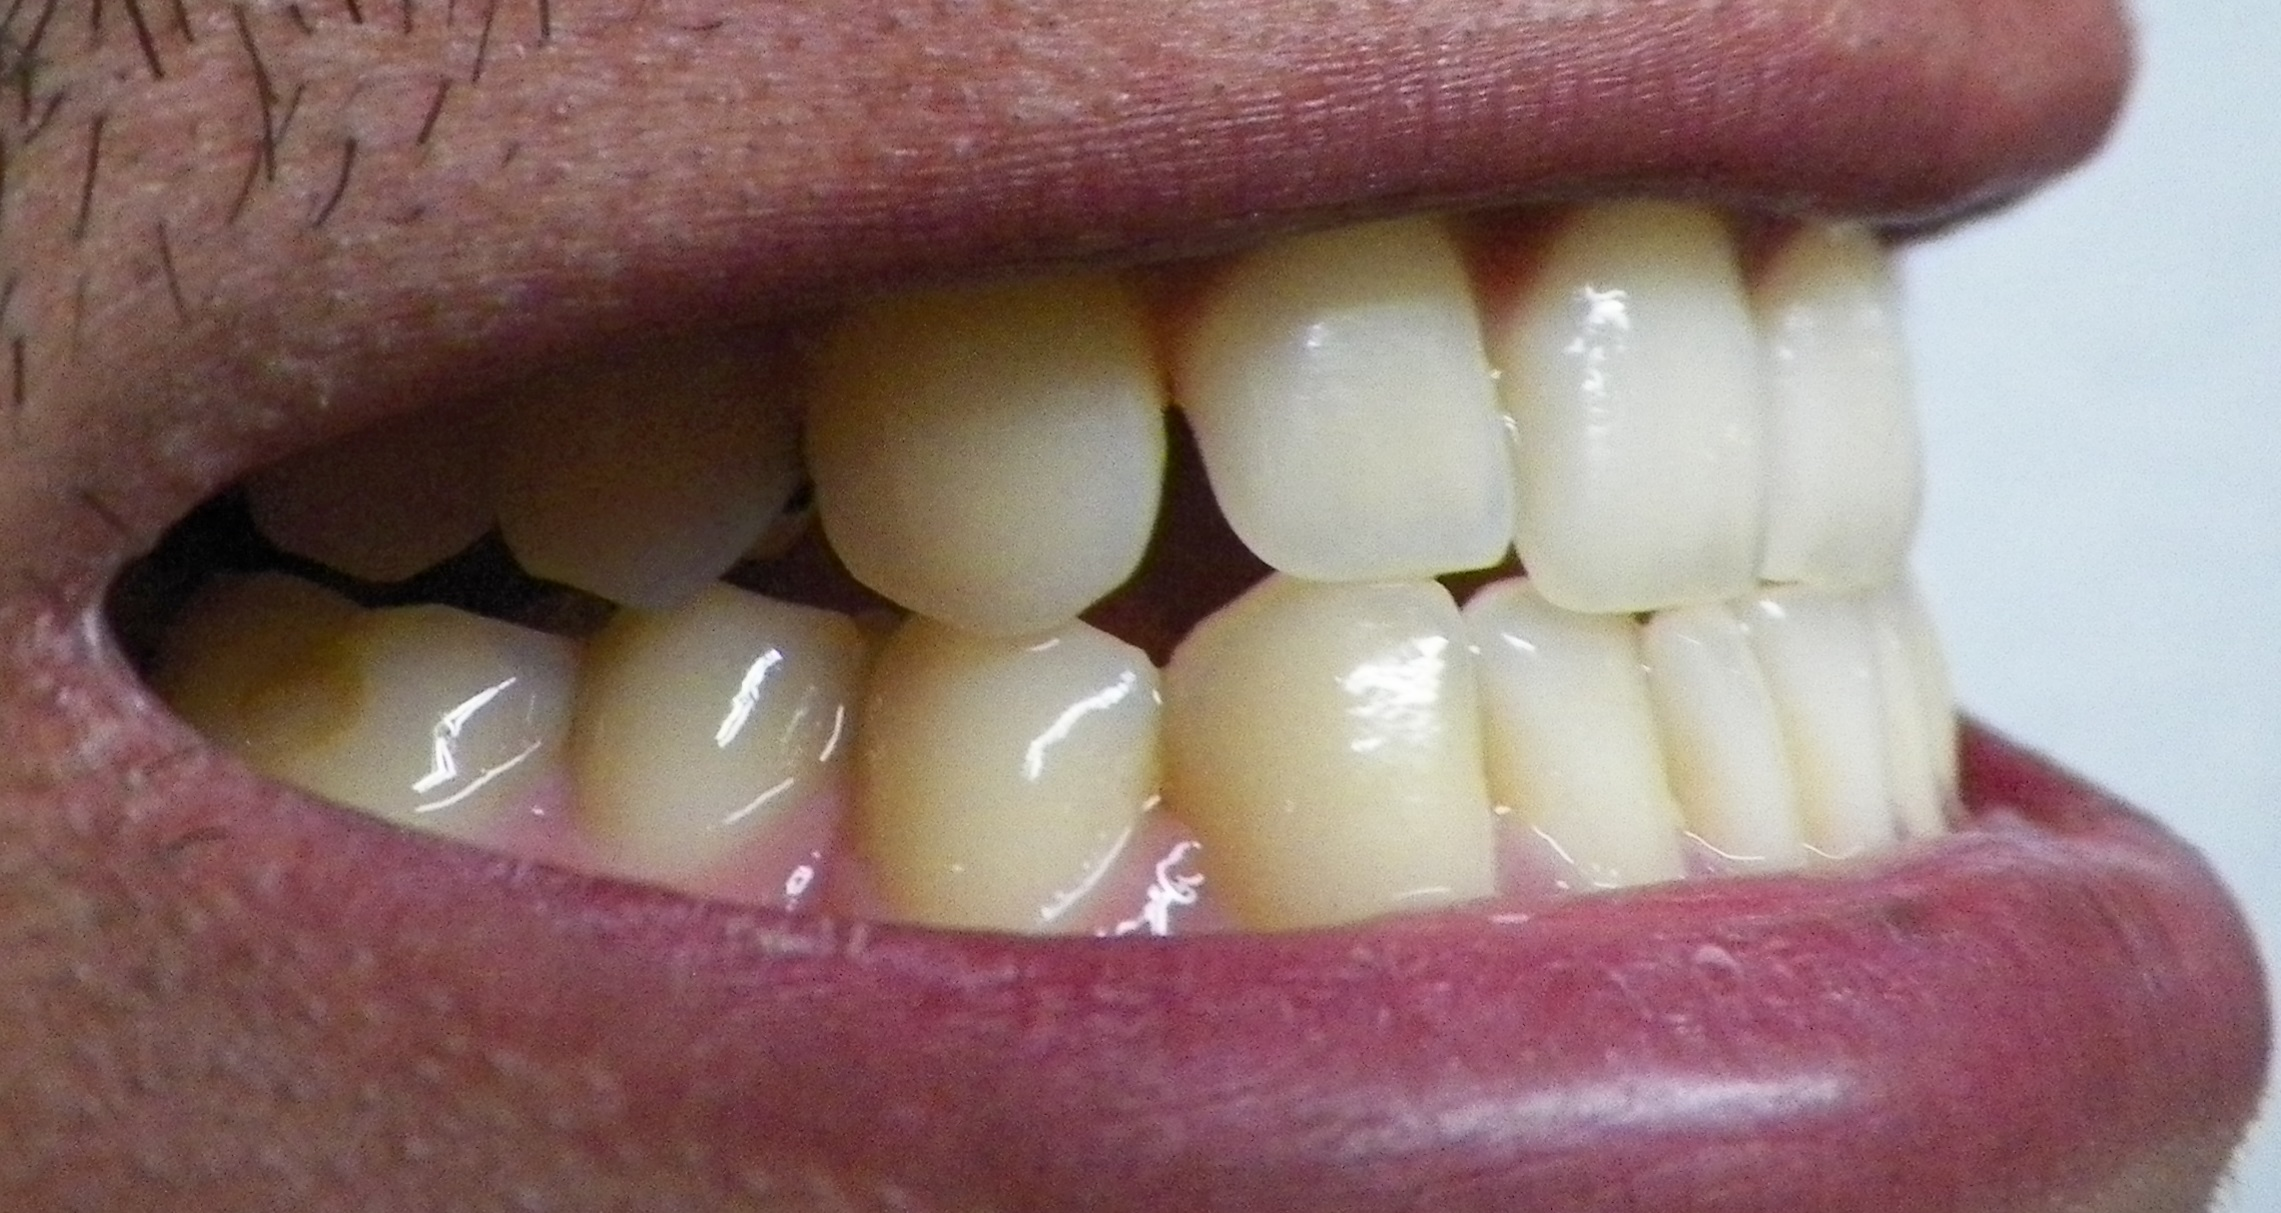boca: (216, 208, 1984, 917)
